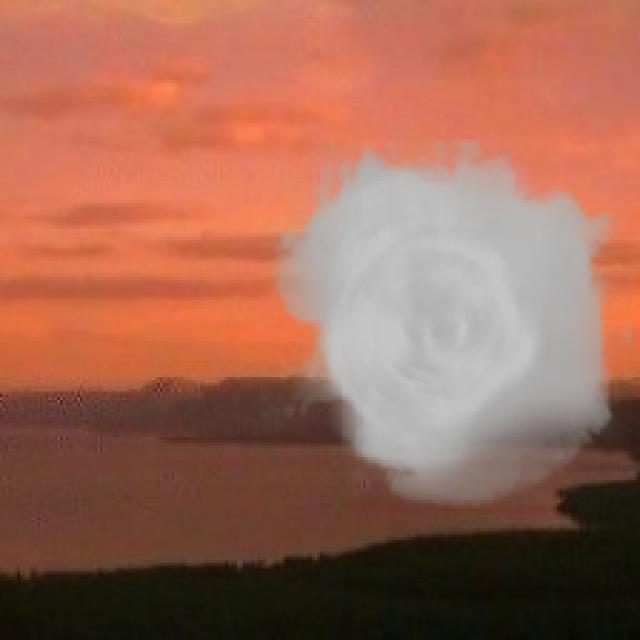smoke: (260, 140, 631, 509)
